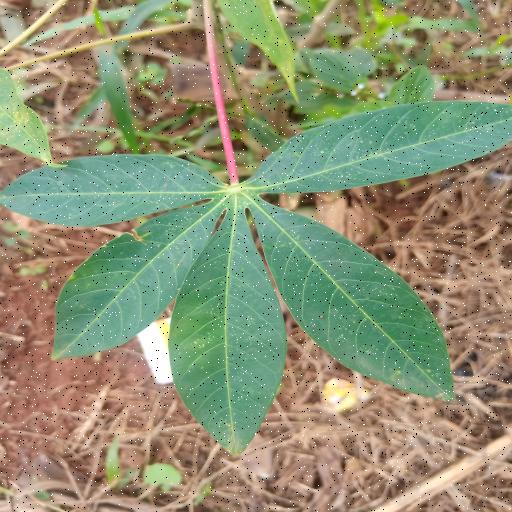Cassava_Healthy: (15, 96, 512, 448)
